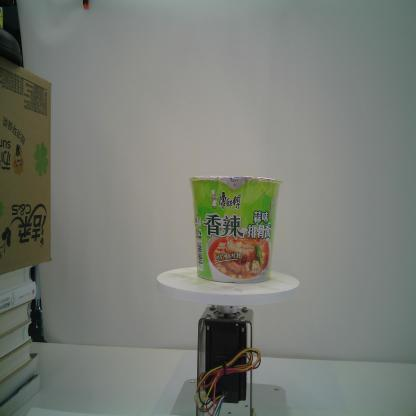Instant Noodles: (190, 174, 282, 284)
